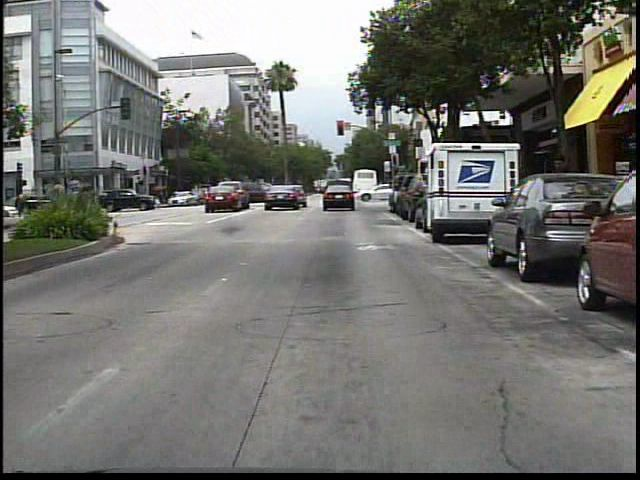person: (541, 149, 573, 240), (252, 181, 266, 206)
